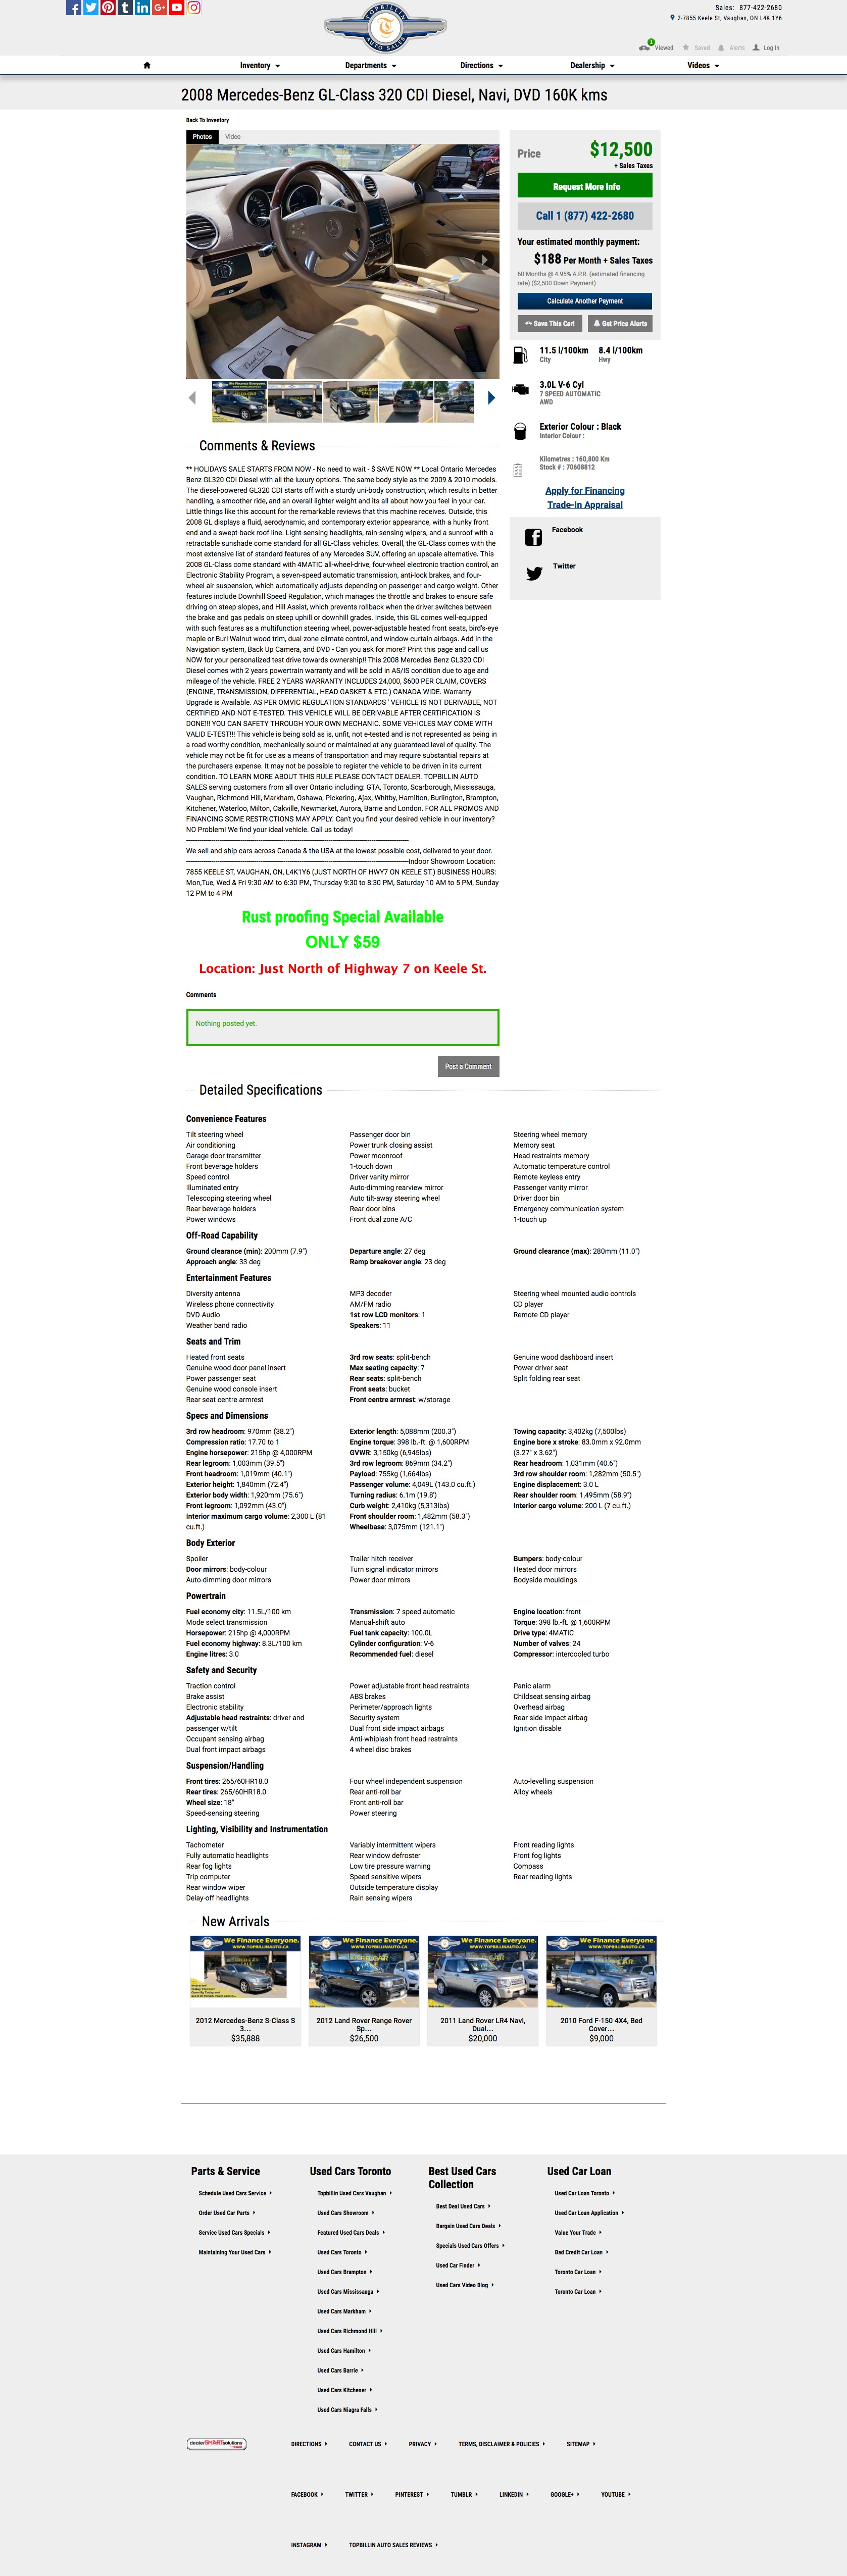car: (488, 391, 497, 406)
